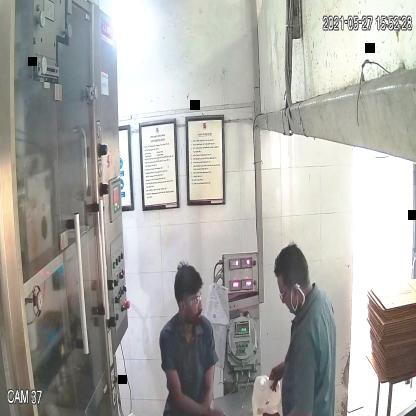goggles: (177, 291, 206, 312)
